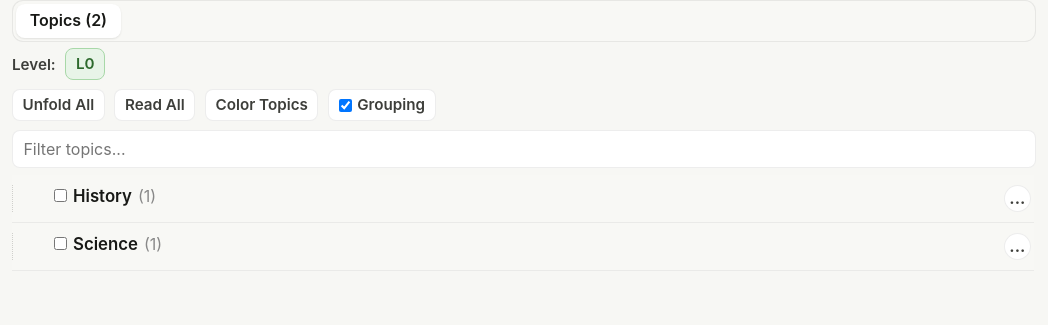
Scenario: TopicList general rendering › opens only one manual action menu at a time
Click the button named "Show actions for Science": (1017, 246) [1004,233,1031,260]
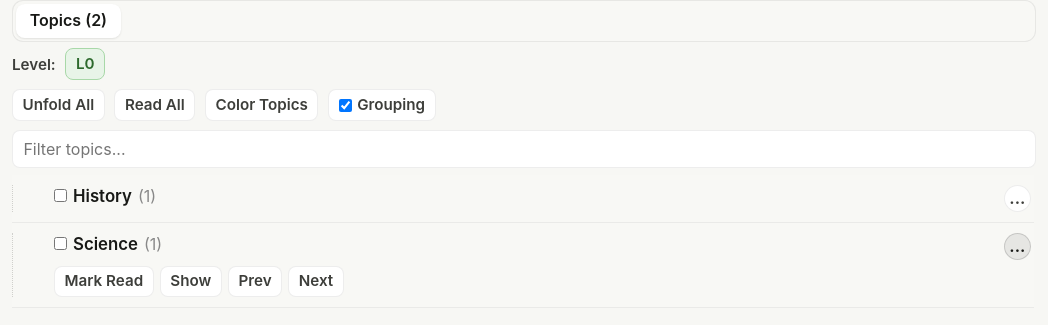
Click the button named "Show actions for History": (1017, 198) [1004,185,1031,212]
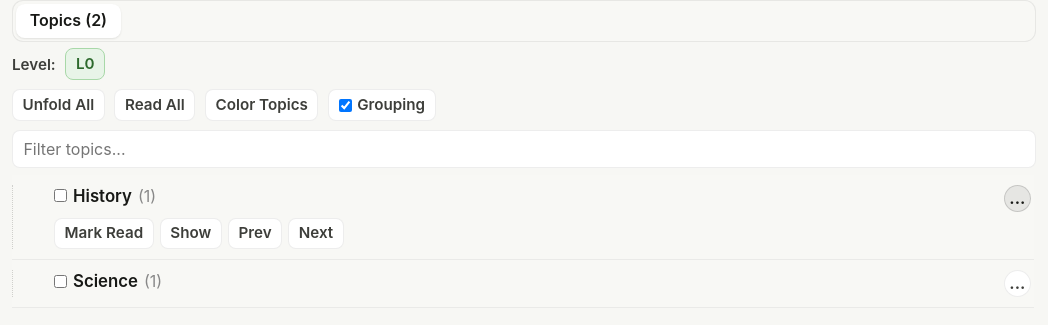
Check: the button named "Show actions for History" is expanded, box [1004,185,1031,212]
